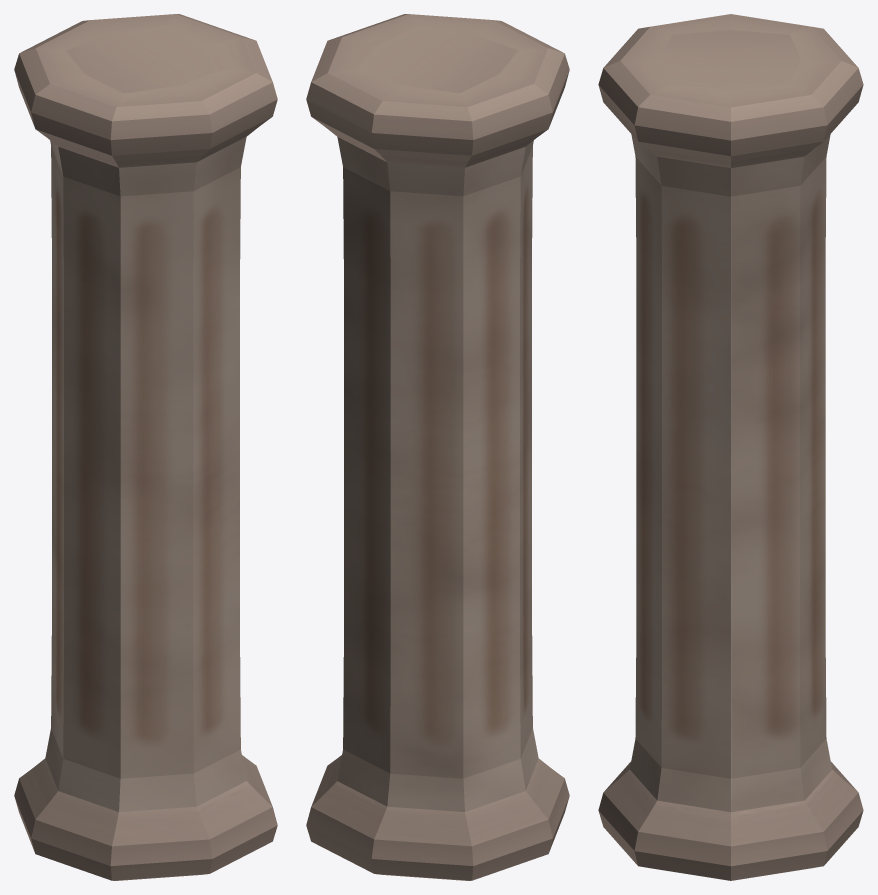
The model's file is F_Column_1.fbx.
3 renders of one model, left to right at view 1: azimuth 30°, elevation 25°; view 2: azimuth 150°, elevation 25°; view 3: azimuth 270°, elevation 25°, orthographic.
Visible parts, largest first — view 1: F_Column_1; view 2: F_Column_1; view 3: F_Column_1.
Boxes of the visible parts, x1=… form: F_Column_1: x1=14, y1=14, x2=277, y2=880; F_Column_1: x1=306, y1=14, x2=569, y2=880; F_Column_1: x1=598, y1=14, x2=863, y2=880.
Size of the model in its own units: 2.57 by 8.28 by 2.57.
1 material, 1 textured.
